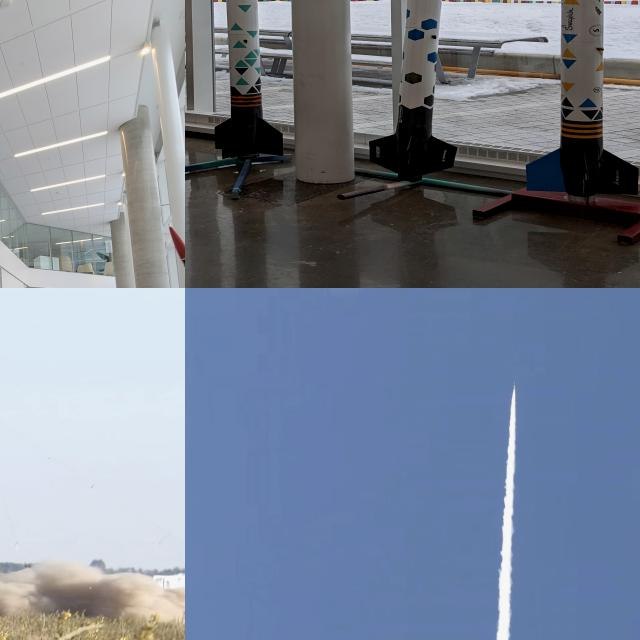Rocket: (525, 0, 639, 197), (369, 0, 458, 181), (215, 0, 283, 159), (168, 223, 185, 269), (513, 382, 516, 390)
